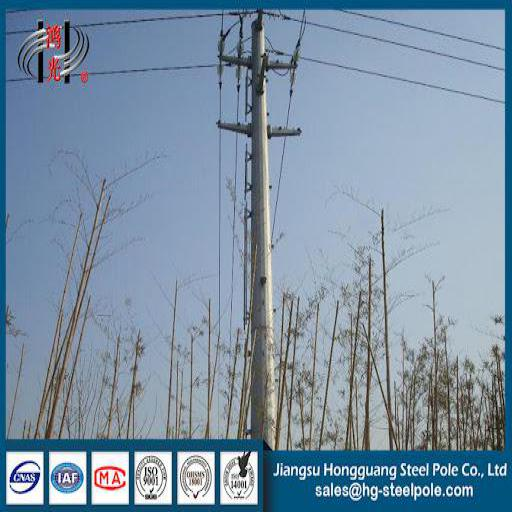mono_7: (213, 10, 320, 452)
